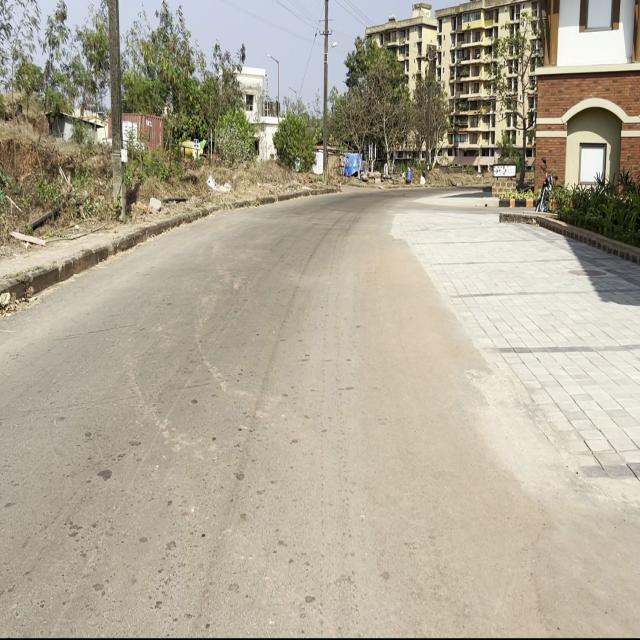Road: (0, 193, 637, 640)
